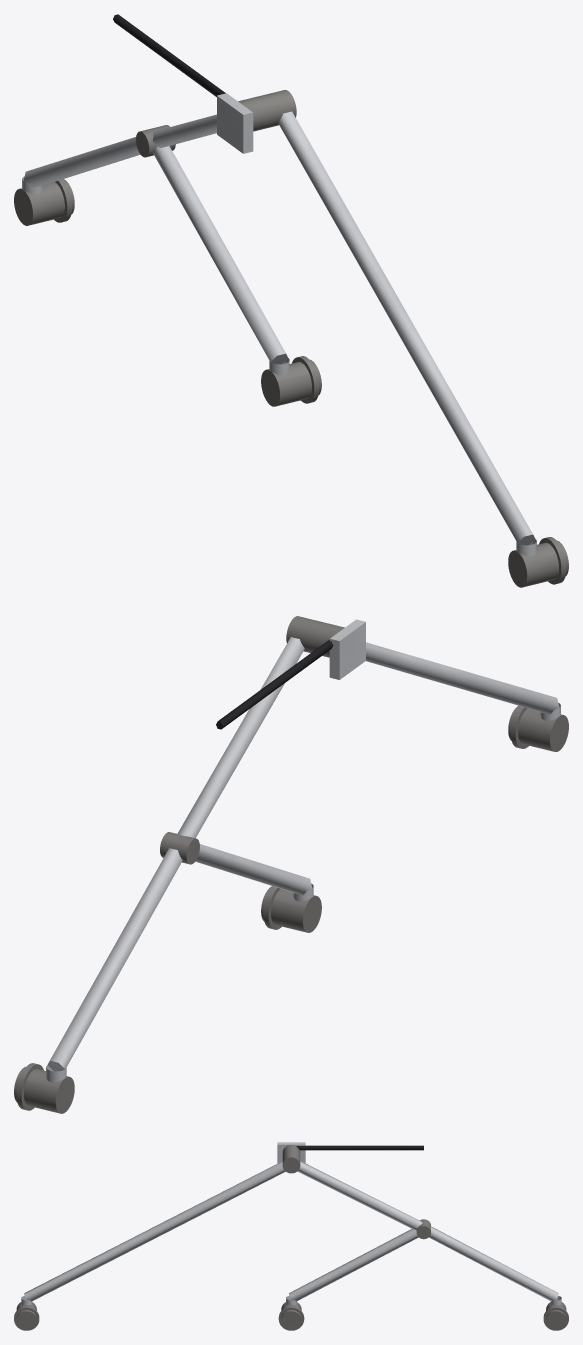
File: rover16_rocker_bogie_m.glb
3 views of the same model, one above another, from view 1: azimuth 30°, elevation 25°; view 2: azimuth 150°, elevation 25°; view 3: azimuth 270°, elevation 25° (orthographic). The views are drawn at different scales.
Visible parts, largest first — view 1: rocker, bogie_beam, bogie_flange_2, wheel_flange_1, bogie_flange_3, mount_plate, pivot, differential_link; view 2: rocker, bogie_beam, bogie_flange_3, bogie_flange_2, wheel_flange_1, mount_plate, differential_link, pivot, bogie_pivot; view 3: rocker, bogie_beam, differential_link, wheel_flange_1, bogie_flange_3, bogie_flange_2, pivot, mount_plate.
Boxes of the visible parts, left/top/right/bottom form: rocker: left=152, top=111, right=536, bottom=556; bogie_beam: left=22, top=137, right=289, bottom=375; bogie_flange_2: left=261, top=356, right=321, bottom=406; wheel_flange_1: left=508, top=537, right=568, bottom=587; bogie_flange_3: left=14, top=179, right=74, bottom=225; mount_plate: left=217, top=93, right=253, bottom=153; pivot: left=238, top=90, right=296, bottom=131; differential_link: left=113, top=14, right=225, bottom=96; rocker: left=177, top=637, right=560, bottom=838; bogie_beam: left=46, top=844, right=313, bottom=1082; bogie_flange_3: left=14, top=1063, right=74, bottom=1113; bogie_flange_2: left=261, top=886, right=321, bottom=932; wheel_flange_1: left=508, top=705, right=568, bottom=751; mount_plate: left=329, top=619, right=365, bottom=679; differential_link: left=216, top=639, right=333, bottom=729; pivot: left=286, top=616, right=344, bottom=657; bogie_pivot: left=160, top=832, right=199, bottom=864; rocker: left=21, top=1161, right=422, bottom=1304; bogie_beam: left=286, top=1226, right=561, bottom=1304; differential_link: left=296, top=1145, right=423, bottom=1150; wheel_flange_1: left=14, top=1302, right=39, bottom=1330; bogie_flange_3: left=543, top=1302, right=568, bottom=1330; bogie_flange_2: left=278, top=1302, right=304, bottom=1330; pivot: left=282, top=1144, right=300, bottom=1173; mount_plate: left=277, top=1142, right=305, bottom=1163.
Size of the model in its own units: 0.25 by 0.9124 by 2.72.
3 materials, 2 textured.
